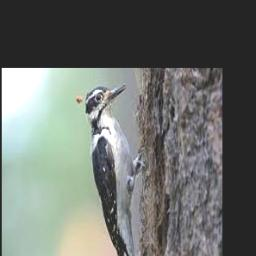Woodpecker: (76, 84, 145, 256)
